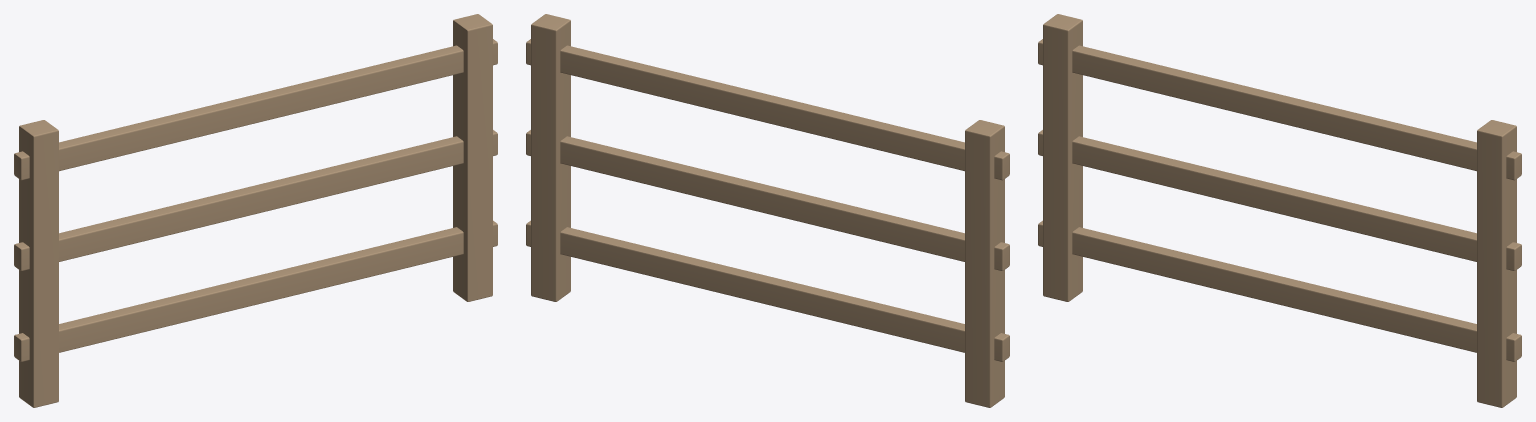
The model's file is fence_wood.glb.
The picture shows the model from 3 angles, left to right: view 1: azimuth 30°, elevation 25°; view 2: azimuth 150°, elevation 25°; view 3: azimuth 330°, elevation 25°; orthographic projection.
Parts seen in each view (by area): view 1: fence_wood; view 2: fence_wood; view 3: fence_wood.
Boxes of the visible parts, left/top/right/bottom form: fence_wood: left=14, top=14, right=497, bottom=407; fence_wood: left=526, top=14, right=1009, bottom=407; fence_wood: left=1038, top=14, right=1521, bottom=407.
Size of the model in its own units: 2.2 by 1.2 by 0.12.
